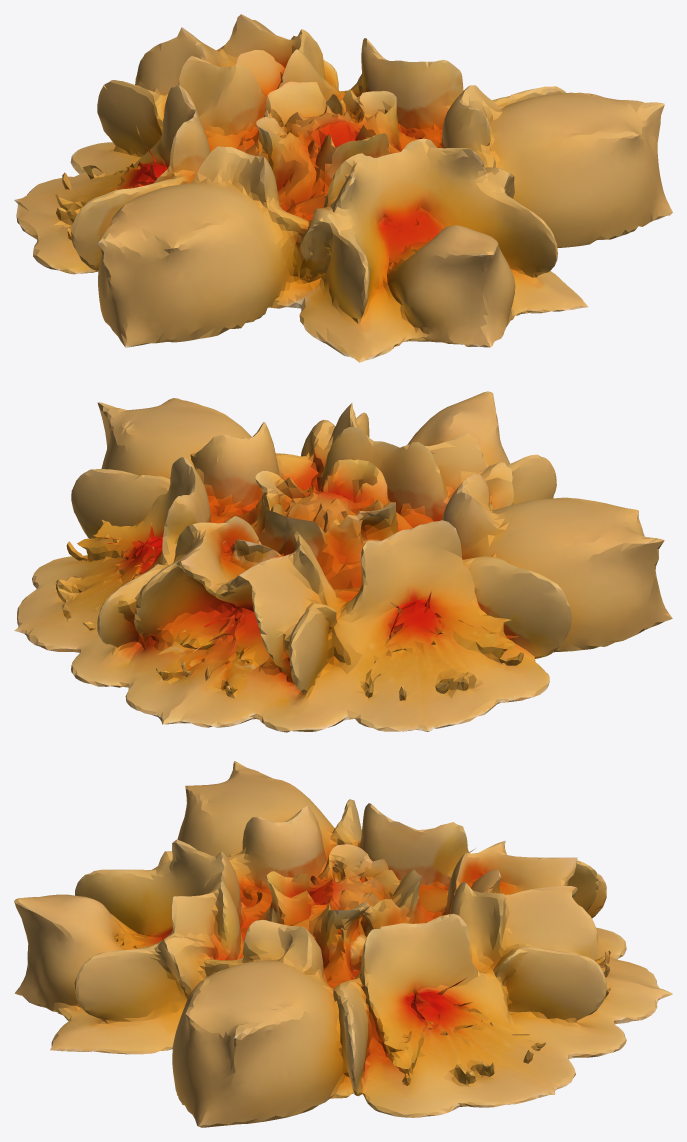
File: edo_sakura.glb
The picture shows the model from 3 angles, top to bottom: view 1: azimuth 30°, elevation 25°; view 2: azimuth 150°, elevation 25°; view 3: azimuth 270°, elevation 25°; orthographic projection.
Visible parts, largest first — view 1: edo_sakura; view 2: edo_sakura; view 3: edo_sakura.
Part boxes in pixels (left/top/right/bottom): edo_sakura: left=14, top=14, right=672, bottom=362; edo_sakura: left=14, top=391, right=672, bottom=732; edo_sakura: left=14, top=761, right=672, bottom=1127.
Bounding box in the file's own units: 1.89 × 0.4657 × 1.9.
1 material, 1 textured.
